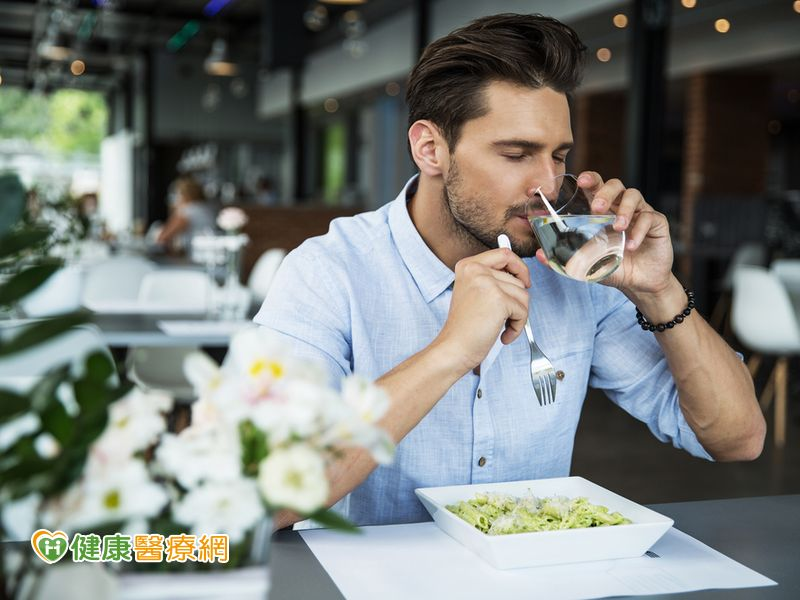cup: (525, 176, 630, 283)
face: (390, 22, 597, 269)
hand: (538, 167, 672, 297), (444, 246, 526, 367)
